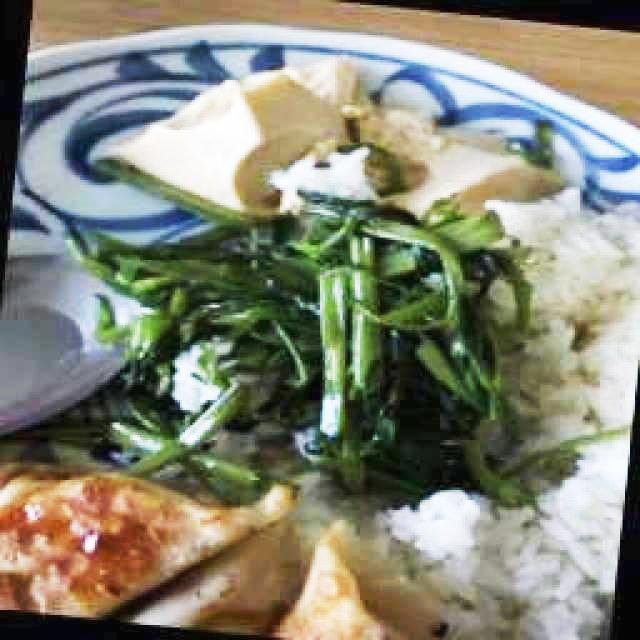fried_dumplings: (1, 456, 297, 618)
rice: (395, 202, 627, 640)
water_spinach: (81, 195, 570, 507)
